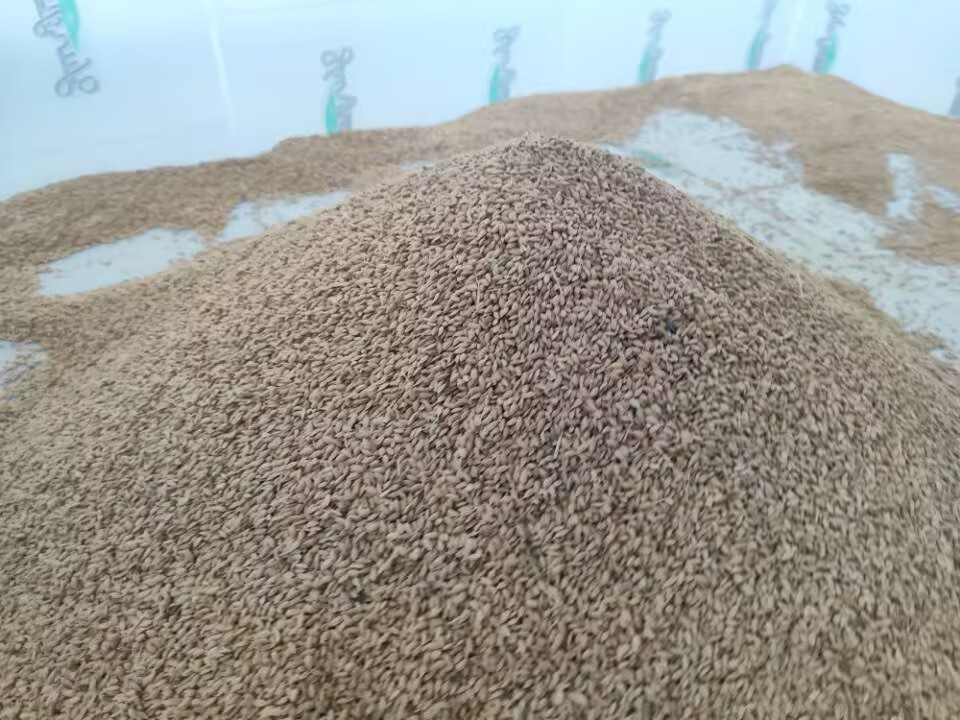Grain: (80, 134, 951, 687)
